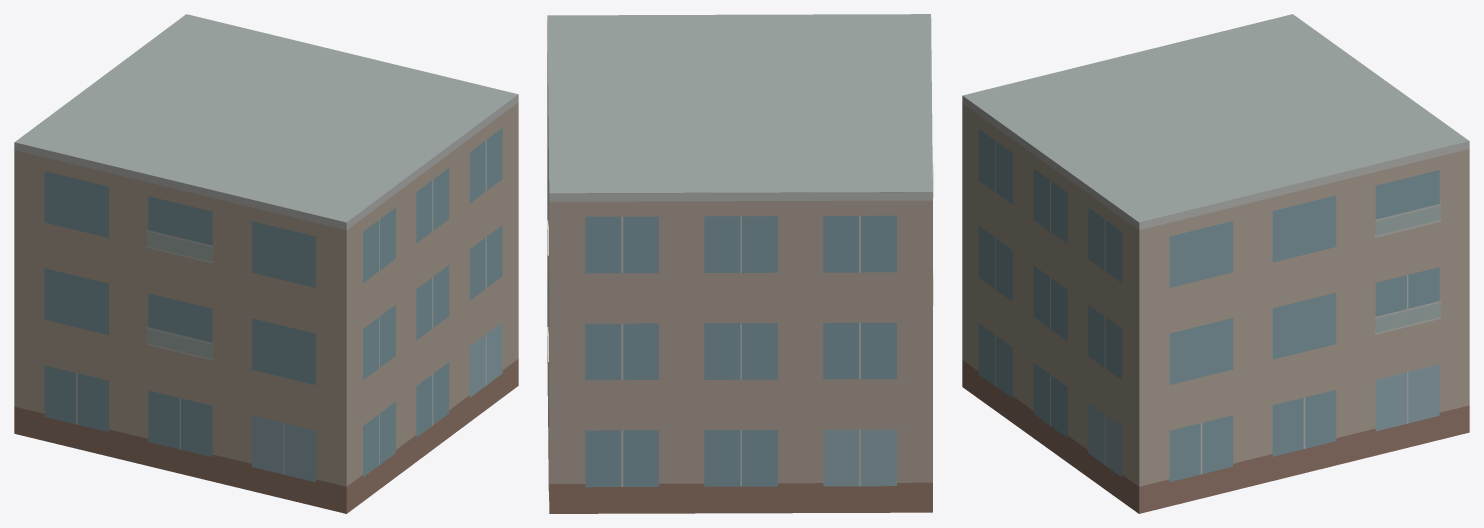
The model's file is survey-upis-32718614.glb.
3 renders of one model, left to right at view 1: azimuth 30°, elevation 25°; view 2: azimuth 150°, elevation 25°; view 3: azimuth 270°, elevation 25°, orthographic. The views are drawn at different scales.
Parts seen in each view (by area): view 1: survey-upis-32718614.tmp; view 2: survey-upis-32718614.tmp; view 3: survey-upis-32718614.tmp.
Part boxes in pixels (box(x1,y1,x2,y2)): survey-upis-32718614.tmp: box(14, 14, 518, 513); survey-upis-32718614.tmp: box(547, 14, 933, 513); survey-upis-32718614.tmp: box(962, 14, 1469, 513).
Bounding box in the file's own units: 14.05 × 9.15 × 14.45.
